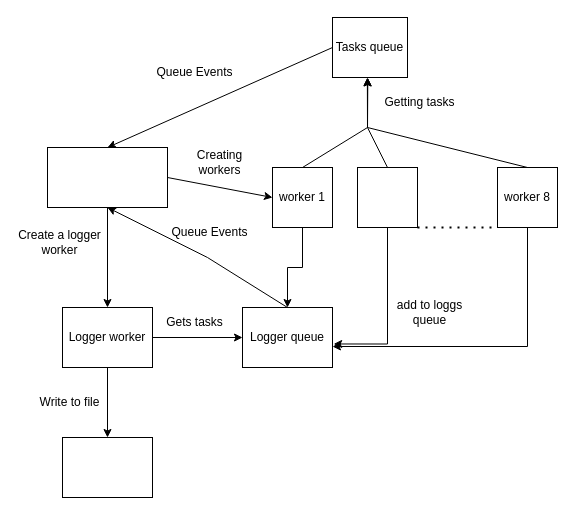
This 575x515 diagram has some shape labels left out. Here are the shapes that lost their labels. From the top down, the box of each, then its label:
(46, 146, 168, 208): worker manger
(356, 166, 418, 228): worker 2
(62, 436, 152, 498): shared txt file
